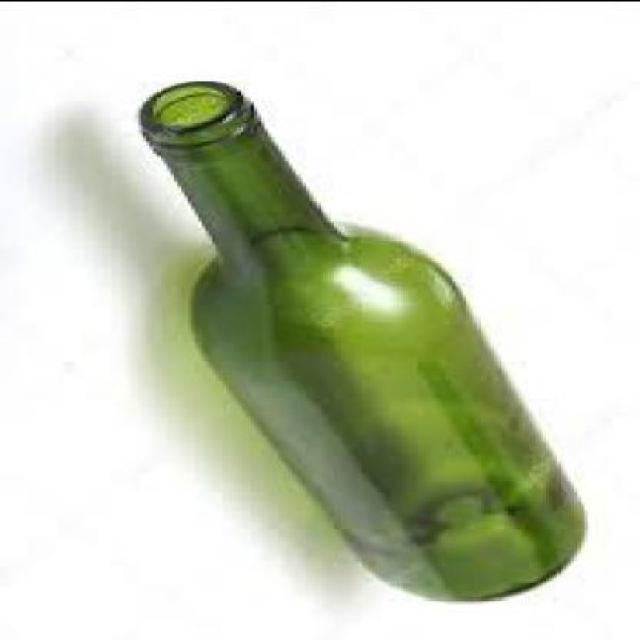GLASS: (140, 82, 588, 602)
